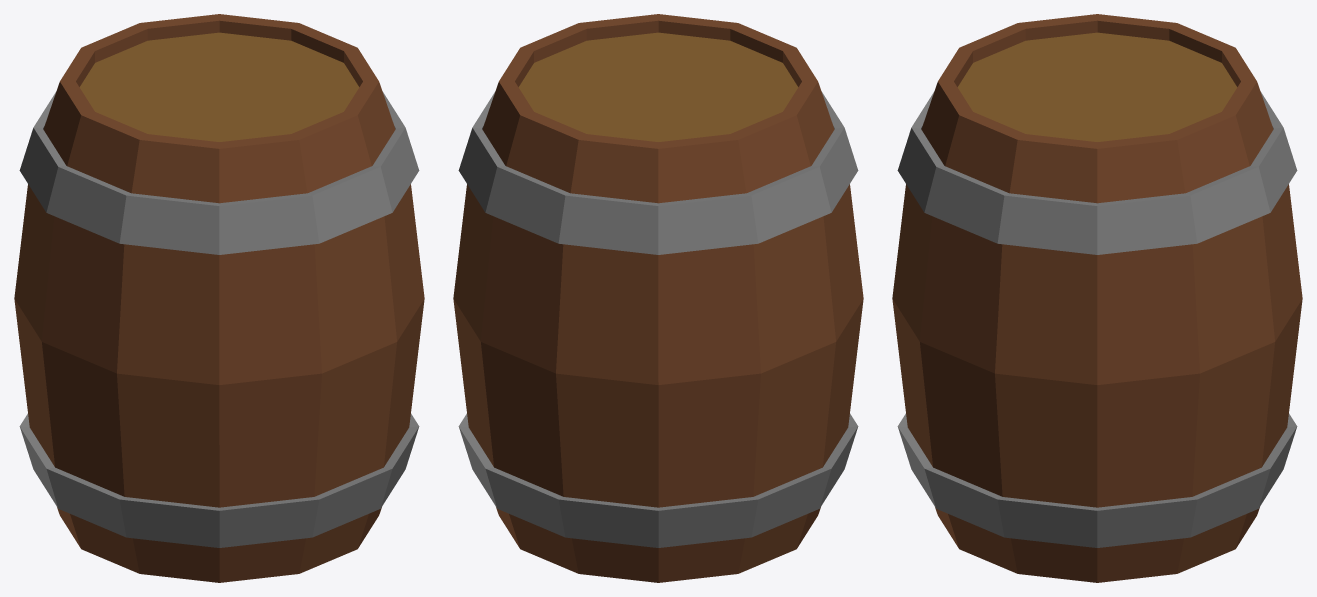
File: barrel.fbx
3 views of the same model, side by side, from view 1: azimuth 30°, elevation 25°; view 2: azimuth 150°, elevation 25°; view 3: azimuth 270°, elevation 25° (orthographic).
Visible parts, largest first — view 1: Circle; view 2: Circle; view 3: Circle.
Boxes of the visible parts, x1,y1,x2,y2 form: Circle: [14, 14, 424, 582]; Circle: [453, 14, 863, 582]; Circle: [892, 14, 1302, 582].
Size of the model in its own units: 257 by 300 by 257.
